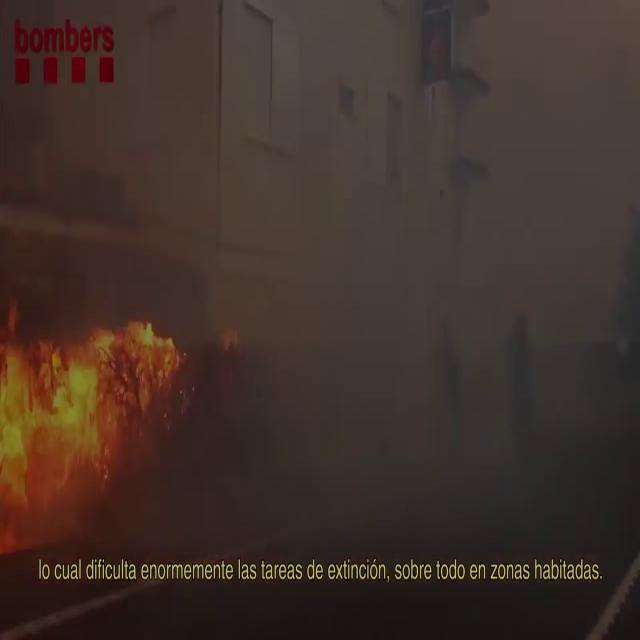Fire: (0, 303, 185, 540)
Smoke: (227, 1, 640, 552)
